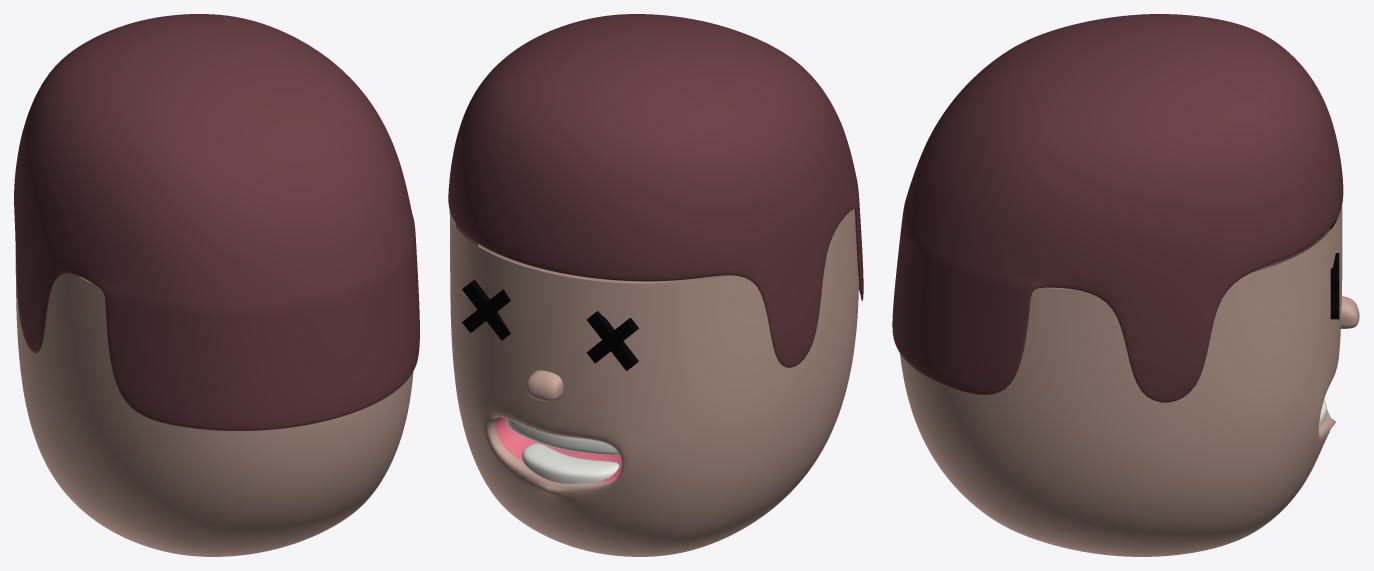
Rendered from 1_head.fbx.
3 views of the same model, side by side, from view 1: azimuth 30°, elevation 25°; view 2: azimuth 150°, elevation 25°; view 3: azimuth 270°, elevation 25° (orthographic). The views are drawn at different scales.
Visible parts, largest first — view 1: hair.001, head.001; view 2: hair.001, head.001, dead_eyes, teeth.003, teeth.002, nose.001; view 3: hair.001, head.001, dead_eyes.
Part boxes in pixels (<box>): hair.001: <box>14,14,419,430</box>; head.001: <box>15,254,413,556</box>; hair.001: <box>448,14,863,367</box>; head.001: <box>450,208,858,556</box>; dead_eyes: <box>462,279,638,370</box>; teeth.003: <box>522,443,619,483</box>; teeth.002: <box>506,419,619,454</box>; nose.001: <box>526,370,563,401</box>; hair.001: <box>892,14,1343,402</box>; head.001: <box>900,206,1342,556</box>; dead_eyes: <box>1330,220,1339,319</box>.
Bounding box in the file's own units: 32.84 × 45.26 × 38.88.
